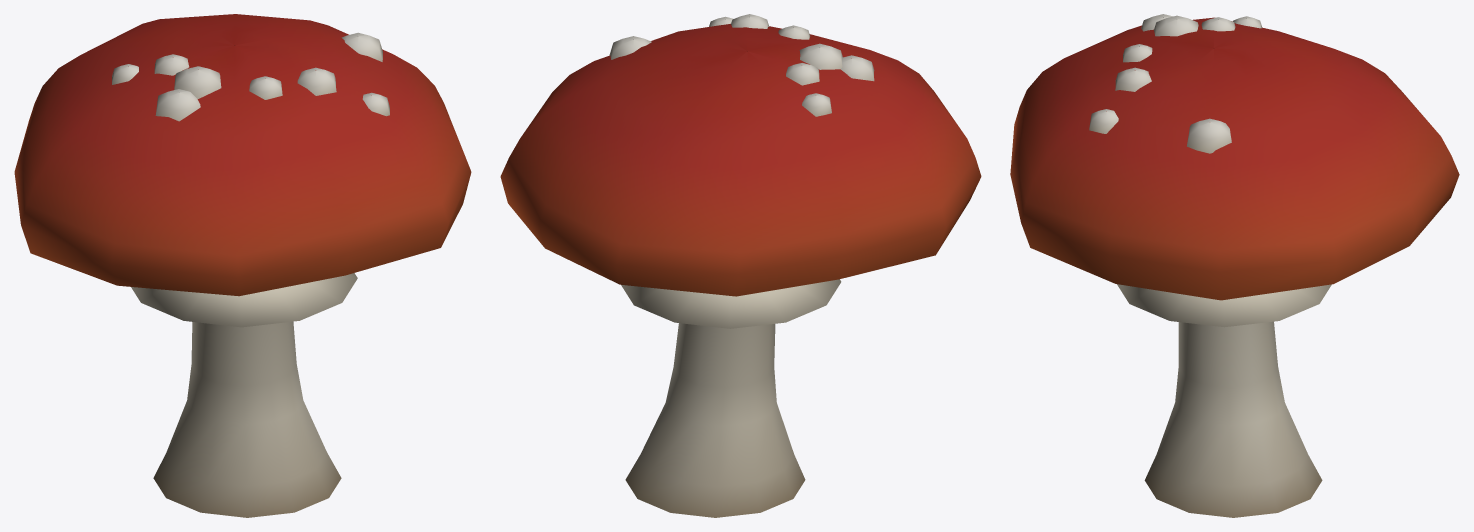
Rendered from mushroom-amanita-b.glb.
3 renders of one model, left to right at view 1: azimuth 30°, elevation 25°; view 2: azimuth 150°, elevation 25°; view 3: azimuth 270°, elevation 25°, orthographic. The views are drawn at different scales.
Parts seen in each view (by area): view 1: mushroom-amanita-b; view 2: mushroom-amanita-b; view 3: mushroom-amanita-b.
Part boxes in pixels (left/top/right/bottom): mushroom-amanita-b: left=14, top=14, right=471, bottom=517; mushroom-amanita-b: left=500, top=14, right=981, bottom=517; mushroom-amanita-b: left=1010, top=14, right=1459, bottom=517.
Bounding box in the file's own units: 0.2502 × 0.25 × 0.2397.
